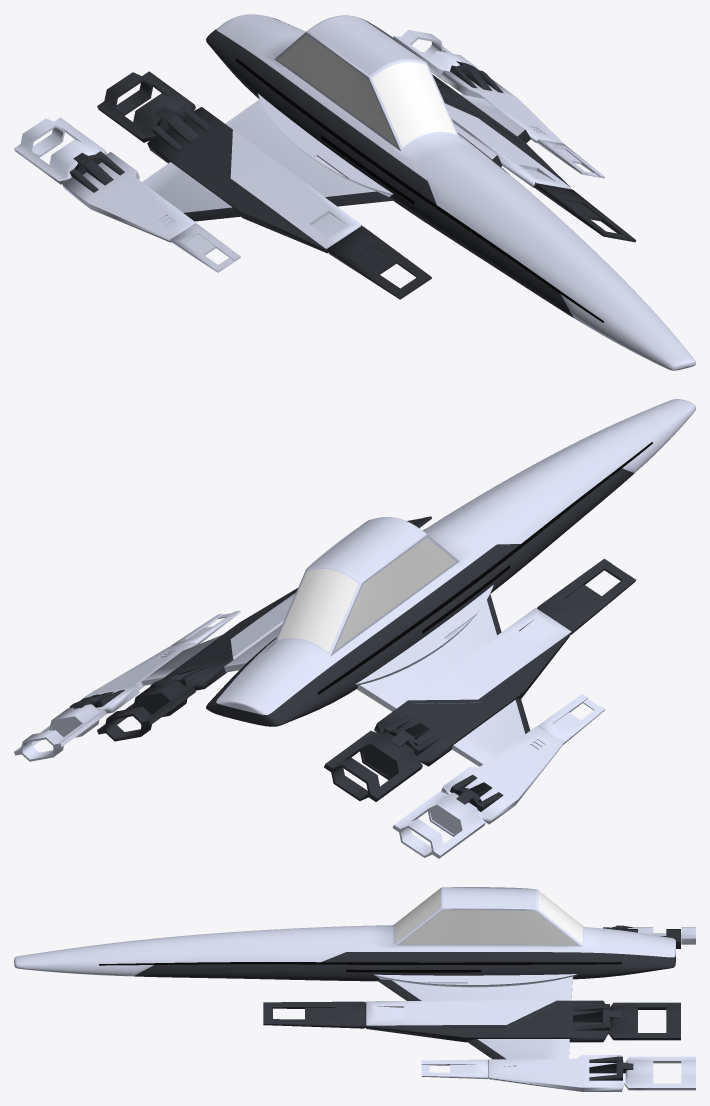
The model's file is NormandySR3_Rev65_Simplified.fbx.
3 renders of one model, top to bottom at view 1: azimuth 30°, elevation 25°; view 2: azimuth 150°, elevation 25°; view 3: azimuth 270°, elevation 25°, orthographic. The views are drawn at different scales.
Visible parts, largest first — view 1: Primary_Hull_2; view 2: Primary_Hull_2; view 3: Primary_Hull_2.
Part boxes in pixels (x1=…): Primary_Hull_2: x1=14, y1=14, x2=695, y2=370; Primary_Hull_2: x1=14, y1=399, x2=695, y2=858; Primary_Hull_2: x1=14, y1=887, x2=695, y2=1091.
Bounding box in the file's own units: 733 × 271 × 1354.
4 materials, 1 textured.
